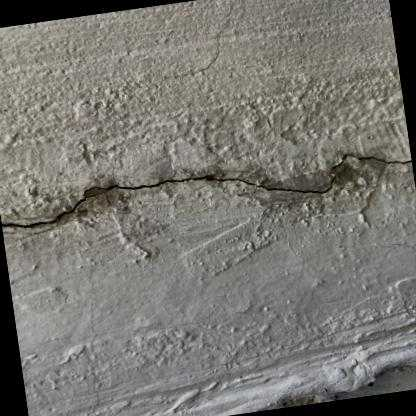crack: (82, 155, 348, 194), (1, 191, 104, 228), (353, 157, 412, 164)
